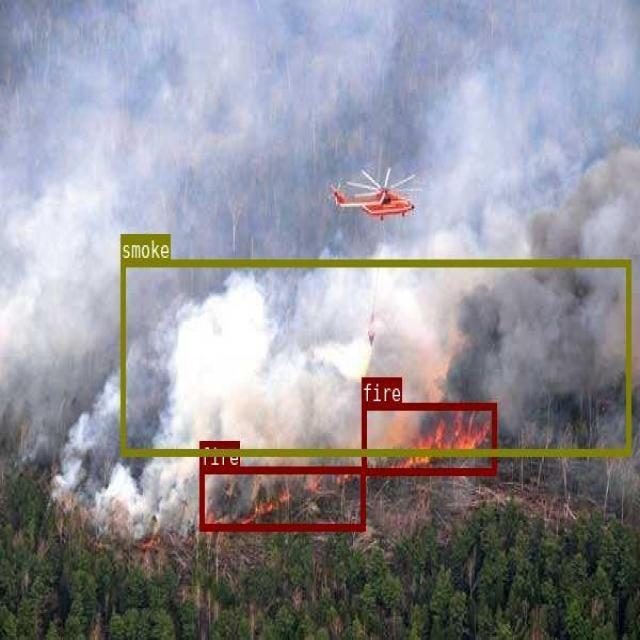fire: (199, 465, 364, 530), (361, 403, 496, 473)
smoke: (119, 259, 630, 455)
